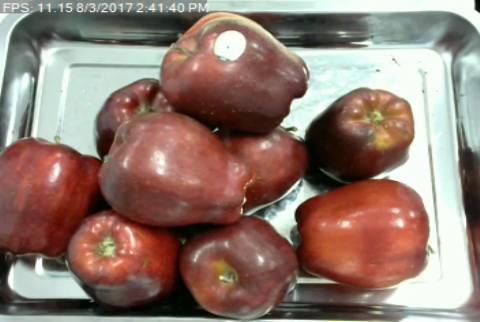Apple: (156, 9, 312, 138), (97, 108, 256, 230), (292, 176, 431, 289), (175, 212, 302, 322), (0, 134, 106, 262), (303, 83, 417, 185), (64, 207, 182, 305), (96, 75, 184, 159)
